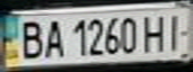0: (118, 13, 142, 55)
1: (66, 16, 87, 58)
2: (84, 15, 106, 56)
6: (103, 15, 124, 56)
A: (39, 16, 66, 60)
B: (12, 17, 48, 61)
H: (139, 11, 172, 53)
I: (160, 9, 193, 51)
